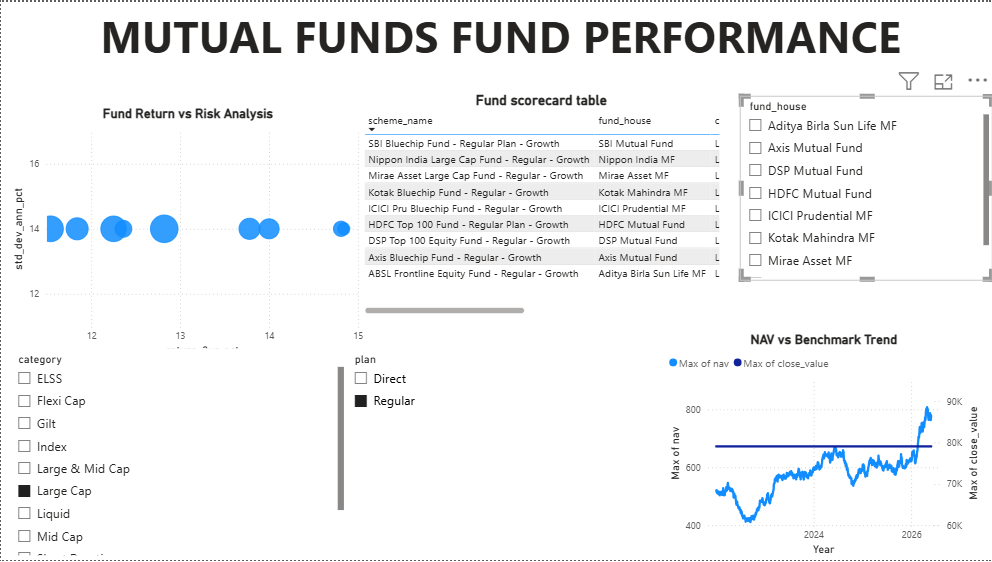

This screenshot's page, from the dashboard's own definition file:
{"tool":"powerbi","page":{"name":"Fund Performance","canvas":[1280,720],"ordinal":1},"visuals":[{"type":"scatterChart","title":"Fund Return vs Risk Analysis","fields":{"X":["07_scheme_performance.return_3yr_pct"],"Y":["07_scheme_performance.std_dev_ann_pct"],"Size":["Max(07_scheme_performance.aum_crore)"]},"box":[9.9,134.5,463.1,328.6],"z":0},{"type":"tableEx","title":"Fund scorecard table","fields":{"Values":["07_scheme_performance.scheme_name","07_scheme_performance.fund_house","07_scheme_performance.category","07_scheme_performance.plan","07_scheme_performance.morningstar_rating","07_scheme_performance.expense_ratio_pct","07_scheme_performance.return_3yr_pct","07_scheme_performance.std_dev_ann_pct"]},"box":[463.1,116.1,468.8,291.7],"z":1000},{"type":"slicer","fields":{"Values":["07_scheme_performance.category"]},"box":[9.9,447.5,437.6,271.9],"z":2000},{"type":"lineChart","title":"NAV vs Benchmark Trend","fields":{"Y":["Max(02_nav_history.nav)"],"Category":["02_nav_history.date.Variation.Date Hierarchy.Year","02_nav_history.date.Variation.Date Hierarchy.Quarter","02_nav_history.date.Variation.Date Hierarchy.Month","02_nav_history.date.Variation.Date Hierarchy.Day"],"Y2":["Max(10_benchmark_indices.close_value)"]},"box":[856.8,426.3,410.7,293.2],"z":3000},{"type":"slicer","fields":{"Values":["07_scheme_performance.fund_house"]},"box":[953.1,120.4,327.2,239.3],"z":4000},{"type":"slicer","fields":{"Values":["07_scheme_performance.plan"]},"box":[443.3,447.5,390.9,271.9],"z":5000},{"type":"textbox","box":[9.9,0,1270.4,116.1],"z":6000}]}

Visuals, with their boxes in screenshot pixels (x1, y1, x2, y2), scaled from the page's 1280x720 canvas onto the 992x562 screenshot:
"Fund Return vs Risk Analysis" scatterChart: [8,105,367,361]
"Fund scorecard table" tableEx: [359,91,722,318]
slicer - 07_scheme_performance.category: [8,349,347,561]
"NAV vs Benchmark Trend" lineChart: [664,333,982,561]
slicer - 07_scheme_performance.fund_house: [739,94,991,281]
slicer - 07_scheme_performance.plan: [344,349,647,561]
textbox: [8,0,991,91]
